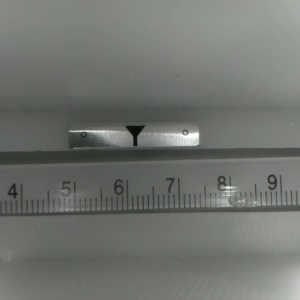4: (6, 184, 17, 198)
5: (61, 181, 71, 196)
6: (113, 178, 123, 195)
7: (165, 177, 174, 193)
8: (216, 176, 226, 190)
9: (267, 175, 277, 191)
finger: (123, 126, 145, 147)
